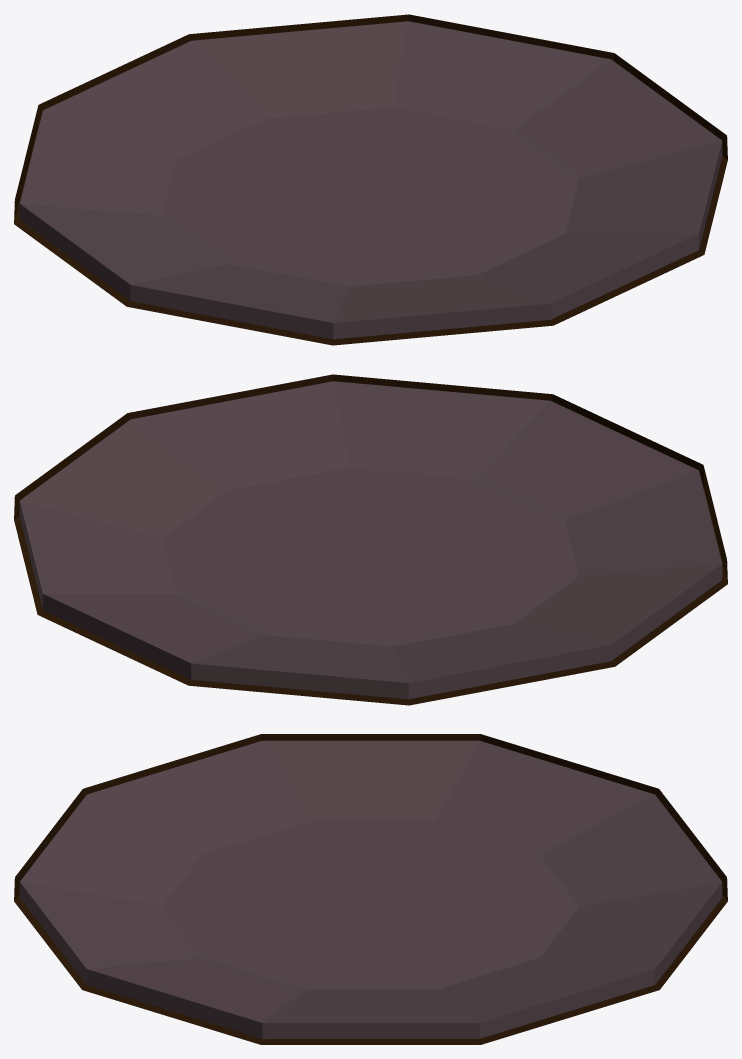
File: Tea_Set_Plate_(Outlined)v002.fbx
3 views of the same model, one above another, from view 1: azimuth 30°, elevation 25°; view 2: azimuth 150°, elevation 25°; view 3: azimuth 270°, elevation 25° (orthographic). The views are drawn at different scales.
Visible parts, largest first — view 1: Cylinder; view 2: Cylinder; view 3: Cylinder.
Boxes of the visible parts, x1,y1,x2,y2 form: Cylinder: [14, 14, 727, 345]; Cylinder: [14, 374, 727, 705]; Cylinder: [14, 734, 727, 1044].
Bounding box in the file's own units: 1.93 × 0.1738 × 2.03.
